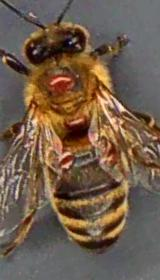varroa_mite: (34, 62, 84, 101), (51, 102, 100, 138), (46, 145, 82, 180)
